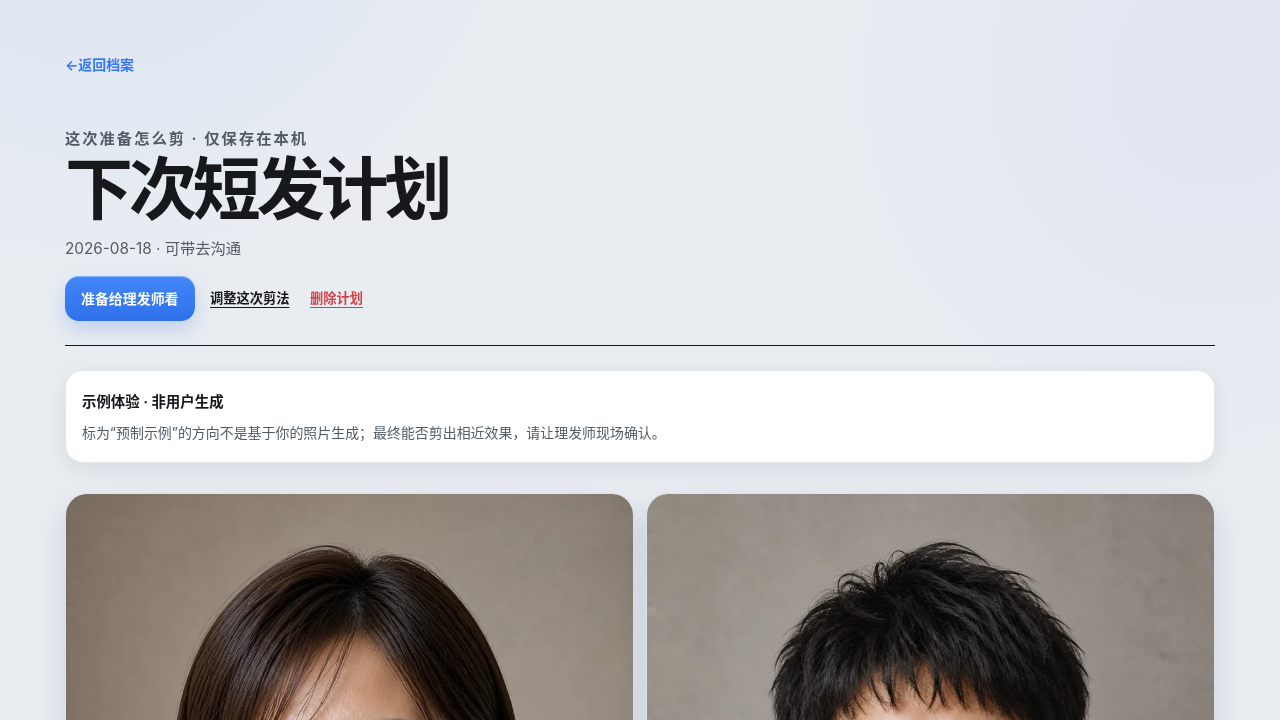
Test: ArchivePlanDetailView poll-aware deletion › keeps the plan and shows an alert when PollDraft cleanup fails
The width and height of the screenshot is (1280, 720).
Expected: the heading "下次短发计划" is shown, top-left (65, 148), bottom-right (448, 230)
Click the button "删除计划" at (337, 299), box top-left (304, 276), bottom-right (369, 321)
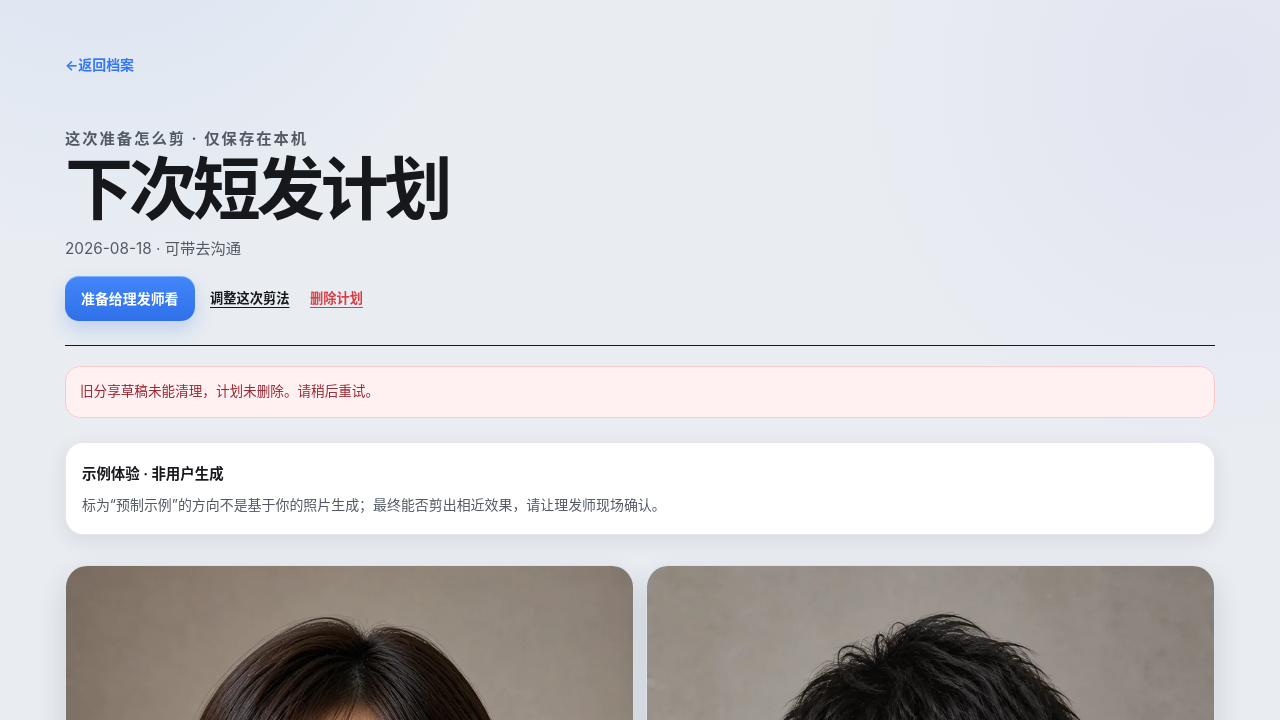
Expected: the message reads "旧分享草稿未能清理，计划未删除。请稍后重试。", top-left (80, 383), bottom-right (379, 399)
